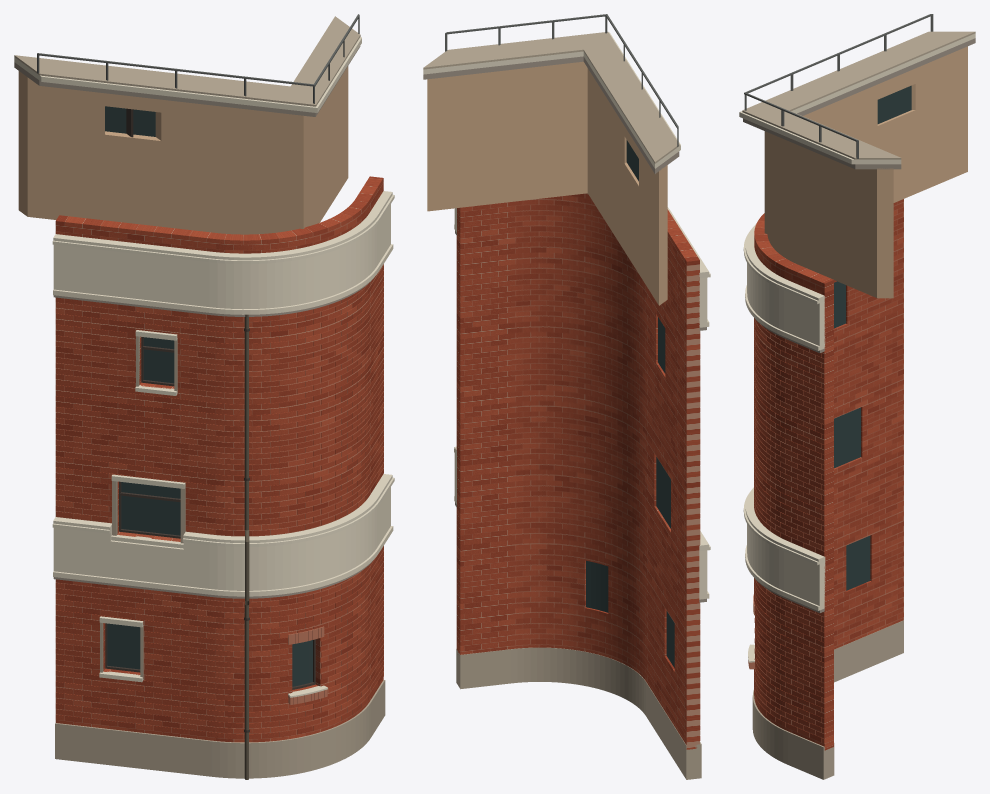
Rendered from changning-yuyuan-749-no65-red-brick-corner-raw.glb.
3 views of the same model, side by side, from view 1: azimuth 30°, elevation 25°; view 2: azimuth 150°, elevation 25°; view 3: azimuth 270°, elevation 25° (orthographic). The views are drawn at different scales.
Parts seen in each view (by area): view 1: 愚园路749弄65号花园住宅红砖圆转角; view 2: 愚园路749弄65号花园住宅红砖圆转角; view 3: 愚园路749弄65号花园住宅红砖圆转角.
Boxes of the visible parts, x1=… form: 愚园路749弄65号花园住宅红砖圆转角: x1=14, y1=14, x2=394, y2=779; 愚园路749弄65号花园住宅红砖圆转角: x1=423, y1=14, x2=710, y2=779; 愚园路749弄65号花园住宅红砖圆转角: x1=739, y1=14, x2=975, y2=779.
Bounding box in the file's own units: 4.69 × 10.16 × 3.42.
11 materials, 1 textured.
